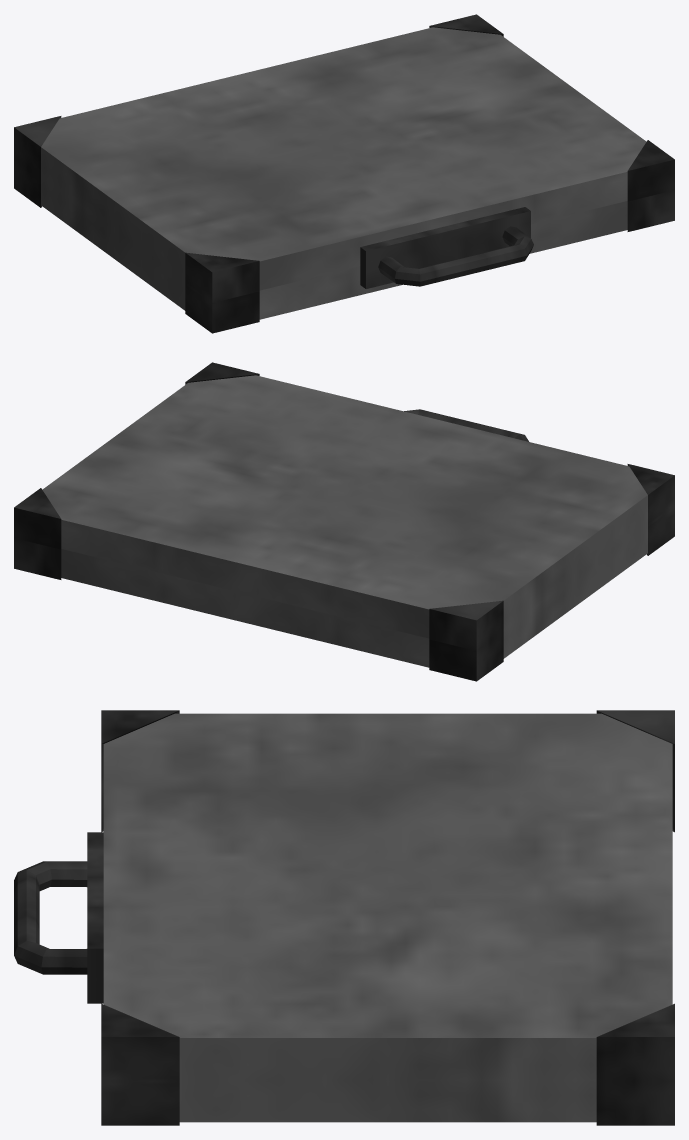
Rendered from BriefCase.fbx.
3 views of the same model, one above another, from view 1: azimuth 30°, elevation 25°; view 2: azimuth 150°, elevation 25°; view 3: azimuth 270°, elevation 25° (orthographic). The views are drawn at different scales.
Visible parts, largest first — view 1: CaseTop, CaseBase; view 2: CaseTop, CaseBase; view 3: CaseTop, CaseBase.
Boxes of the visible parts, left/top/right/bottom form: CaseTop: left=14, top=14, right=674, bottom=302; CaseBase: left=14, top=158, right=674, bottom=333; CaseTop: left=14, top=362, right=674, bottom=650; CaseBase: left=14, top=506, right=674, bottom=681; CaseTop: left=14, top=710, right=674, bottom=1081; CaseBase: left=101, top=786, right=674, bottom=1125.
Bounding box in the file's own units: 201 × 25.42 × 172.
